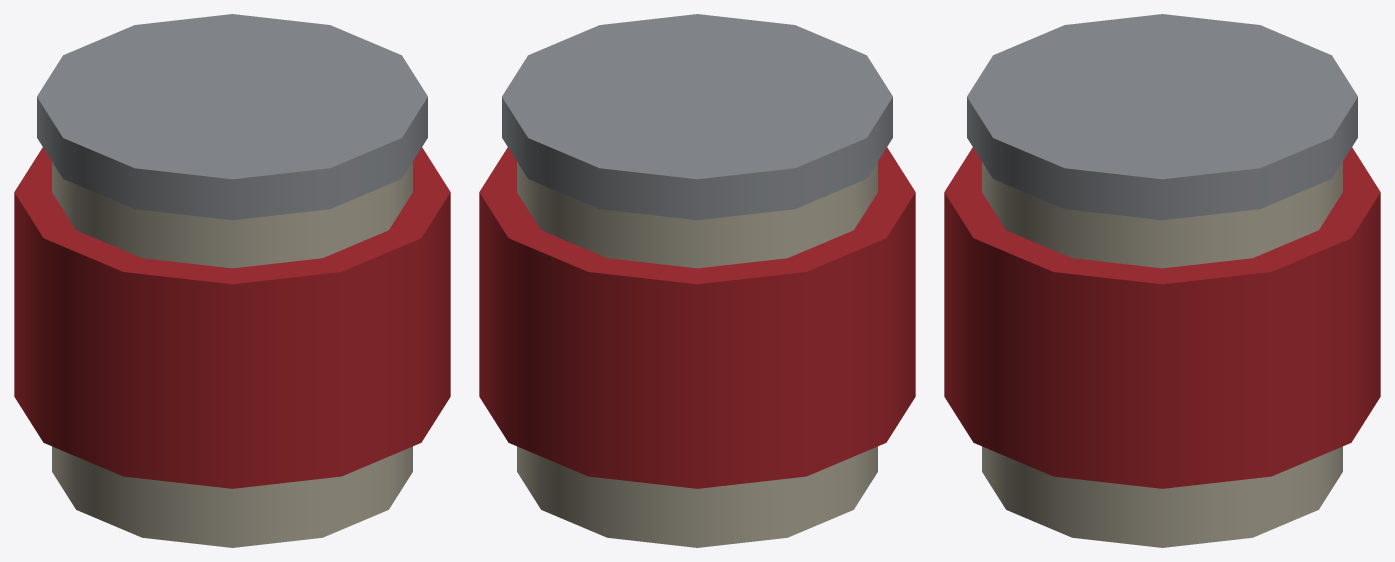
Rendered from good-cans.glb.
3 views of the same model, side by side, from view 1: azimuth 30°, elevation 25°; view 2: azimuth 150°, elevation 25°; view 3: azimuth 270°, elevation 25° (orthographic).
Parts seen in each view (by area): view 1: #a3262c_noshadow, #8a8e92 metal 0.7 rough 0.3_noshadow, #b0aa98 metal 0.7 rough 0.3; view 2: #a3262c_noshadow, #8a8e92 metal 0.7 rough 0.3_noshadow, #b0aa98 metal 0.7 rough 0.3; view 3: #a3262c_noshadow, #8a8e92 metal 0.7 rough 0.3_noshadow, #b0aa98 metal 0.7 rough 0.3.
Boxes of the visible parts, x1,y1,x2,y2 form: #a3262c_noshadow: [14, 147, 450, 488]; #8a8e92 metal 0.7 rough 0.3_noshadow: [37, 14, 427, 220]; #b0aa98 metal 0.7 rough 0.3: [52, 162, 412, 547]; #a3262c_noshadow: [479, 147, 915, 488]; #8a8e92 metal 0.7 rough 0.3_noshadow: [502, 14, 892, 220]; #b0aa98 metal 0.7 rough 0.3: [517, 162, 877, 547]; #a3262c_noshadow: [944, 147, 1380, 488]; #8a8e92 metal 0.7 rough 0.3_noshadow: [967, 14, 1357, 220]; #b0aa98 metal 0.7 rough 0.3: [982, 162, 1342, 547].
Bounding box in the file's own units: 0.116 × 0.11 × 0.116.
